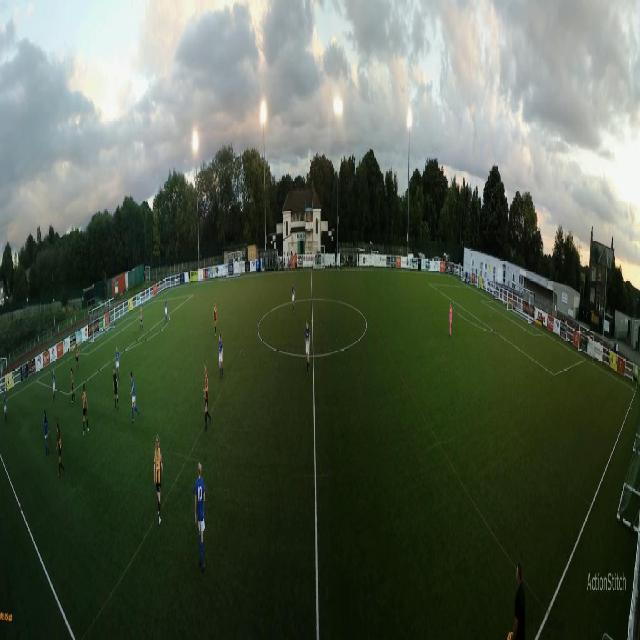player: (194, 462, 206, 571), (154, 436, 164, 527), (203, 365, 212, 431), (56, 422, 65, 477), (131, 372, 140, 423), (82, 382, 89, 436), (305, 321, 311, 376), (43, 409, 49, 458), (218, 334, 224, 382), (113, 367, 119, 411), (213, 299, 218, 341), (71, 367, 76, 403), (292, 279, 296, 318), (116, 345, 120, 383), (449, 303, 453, 338), (52, 369, 56, 403), (3, 393, 7, 425), (75, 344, 79, 374), (165, 297, 168, 323), (140, 307, 143, 332), (102, 316, 105, 338), (206, 574, 207, 575)
